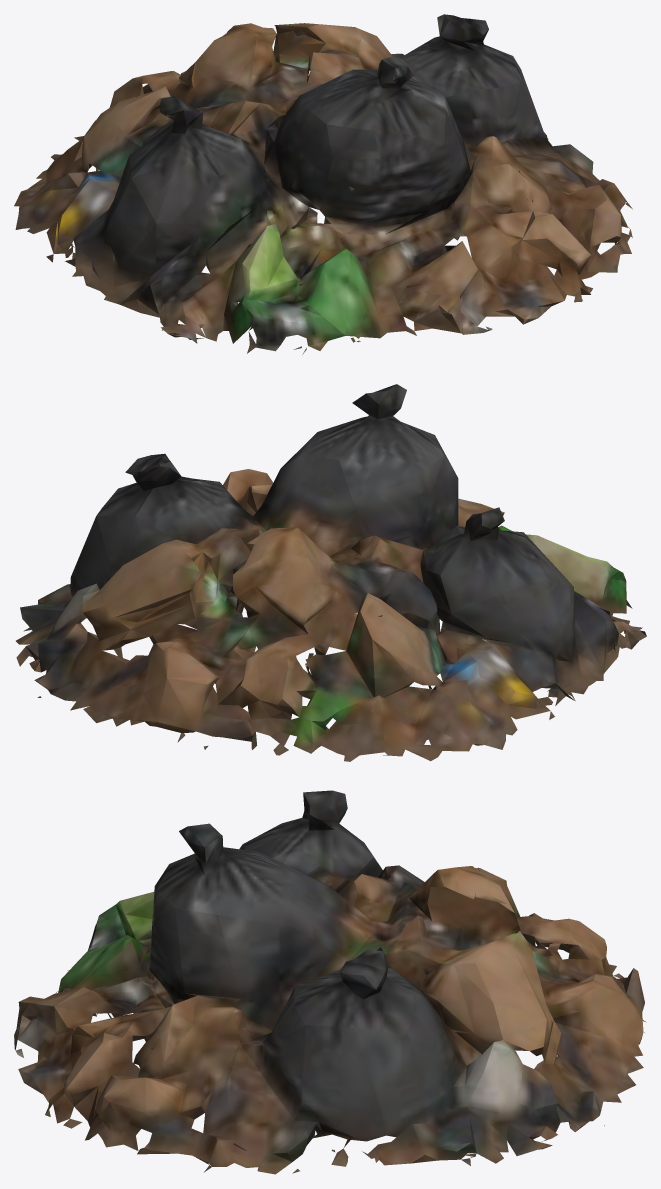
The model's file is street_trash_pile_low.glb.
3 renders of one model, top to bottom at view 1: azimuth 30°, elevation 25°; view 2: azimuth 150°, elevation 25°; view 3: azimuth 270°, elevation 25°, orthographic. The views are drawn at different scales.
Visible parts, largest first — view 1: turn; view 2: turn; view 3: turn.
Part boxes in pixels (left/top/right/bottom): turn: left=14, top=14, right=632, bottom=354; turn: left=16, top=384, right=646, bottom=761; turn: left=14, top=790, right=646, bottom=1174.
Bounding box in the file's own units: 1.21 × 0.5 × 1.25.
Materials: 1 (1 with a texture image).
